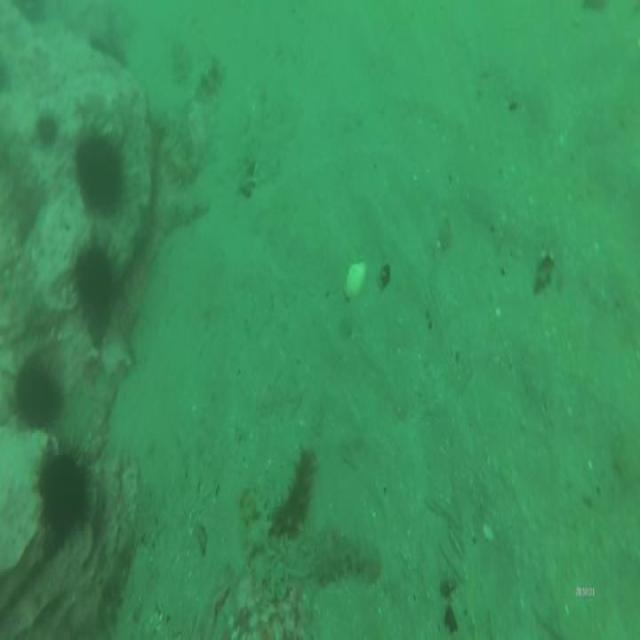echinus: (33, 442, 95, 550), (69, 126, 127, 220), (12, 349, 64, 436), (71, 231, 120, 322), (33, 108, 61, 154)
holothurian: (278, 524, 385, 592), (235, 480, 282, 606), (272, 441, 319, 539), (144, 108, 196, 164), (150, 192, 212, 238), (158, 133, 196, 183), (167, 33, 194, 93)
scallop: (340, 256, 370, 305)
